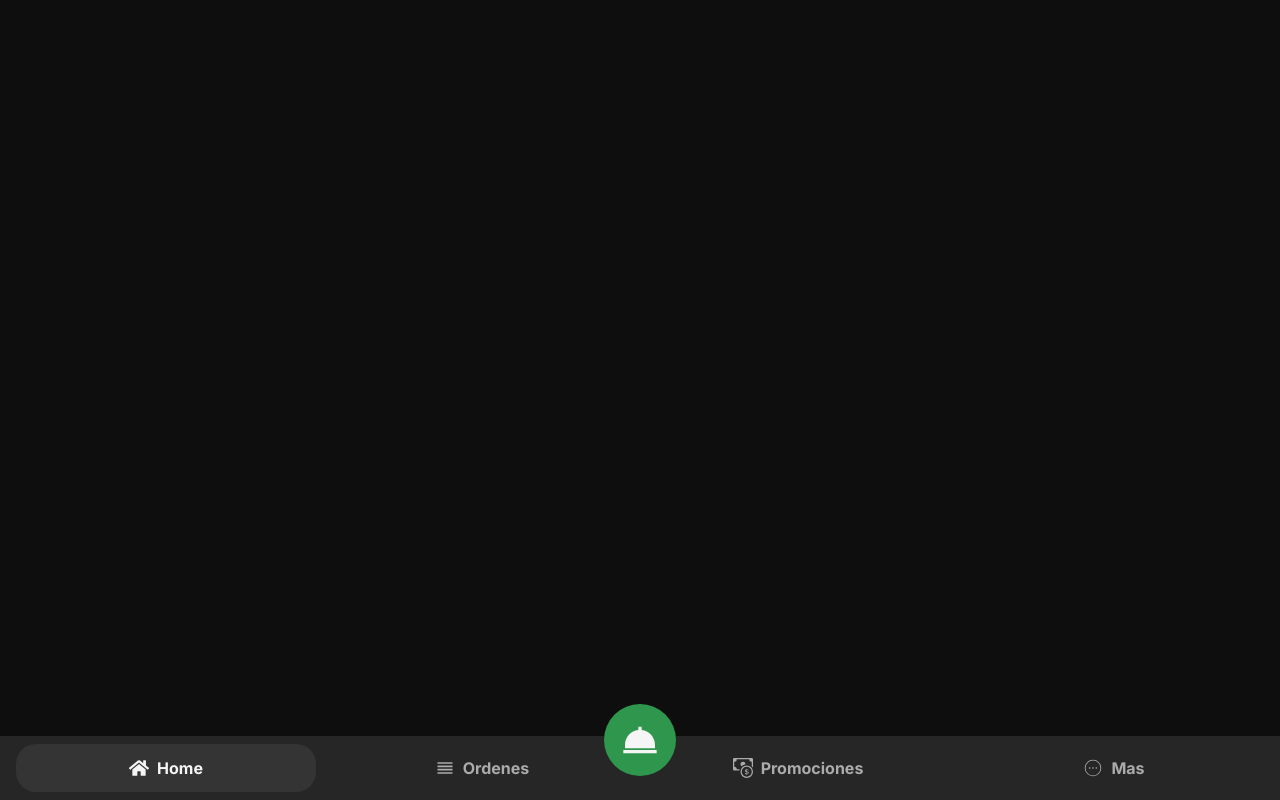
Scenario: BottomNav › renderiza el menú de customer (Ordenes, Promociones) y abre modal de orden
Expected: the text "Home" is shown, [157,756,203,780]
Expected: the text "Ordenes" is shown, [463,756,529,780]
What coordinates should you click on to do the following:
click the button with class "bottom-6"
I would click on:
 (640, 740)
Its box is [604,704,676,776].
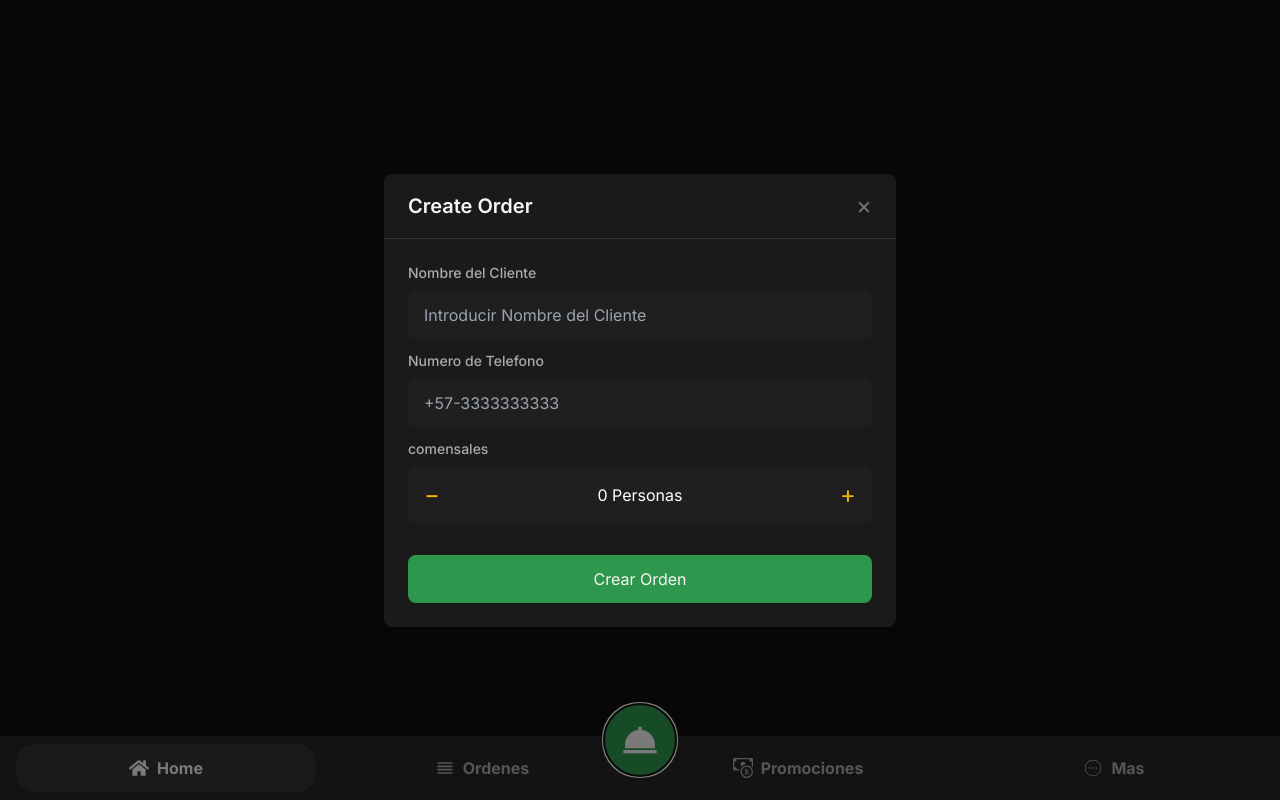
Expected: the text "Nombre del Cliente" is shown, [408,264,536,280]
